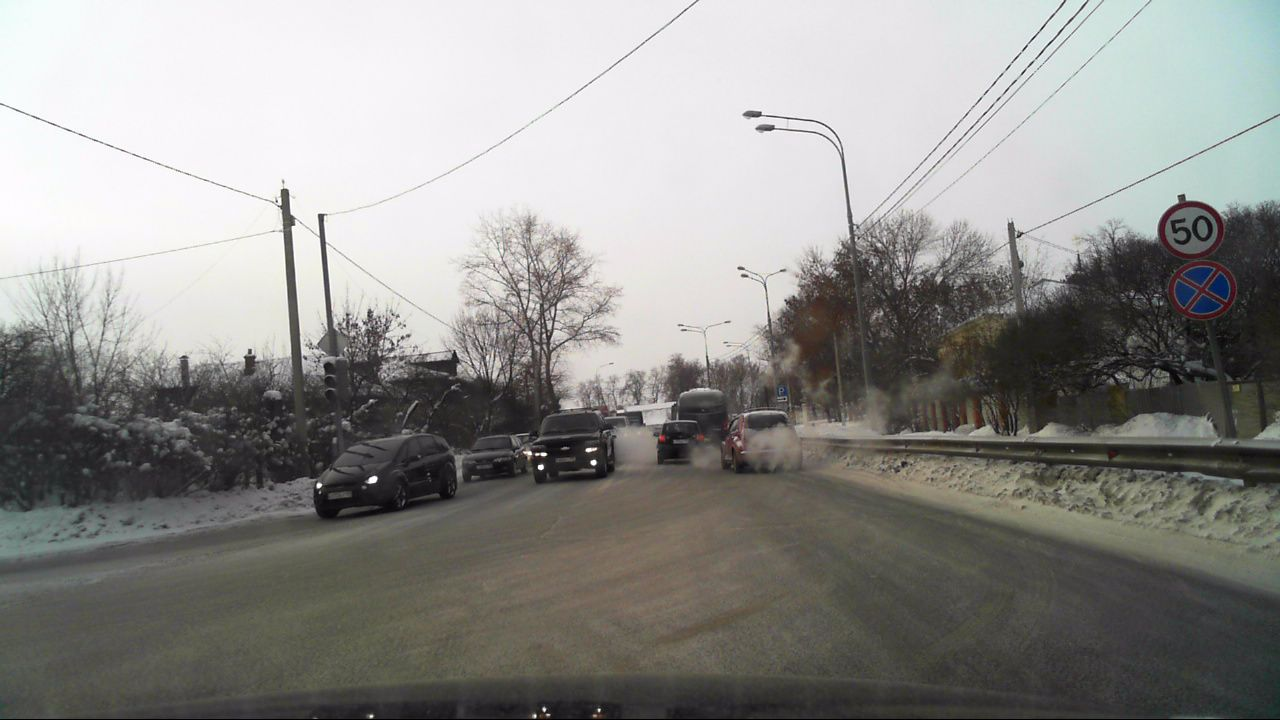No Parking: (1170, 262, 1233, 320)
